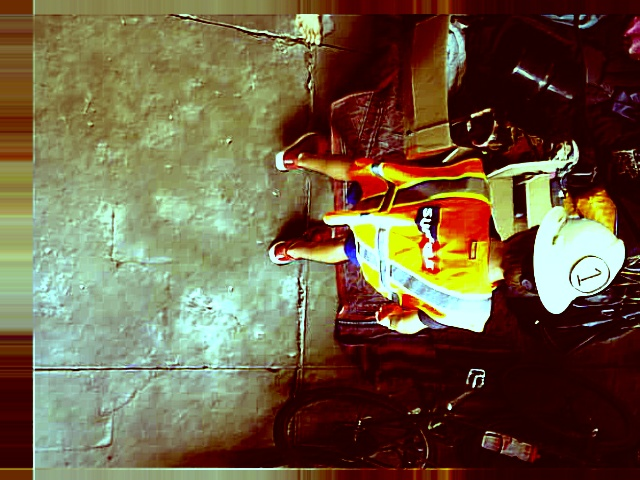one: (571, 257, 611, 293)
